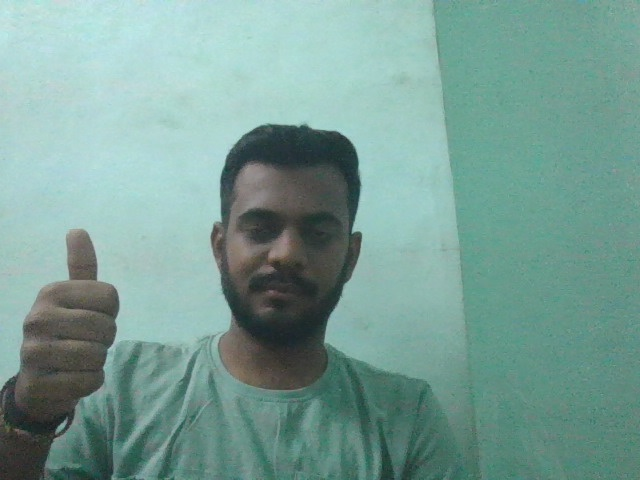yes: (13, 217, 124, 423)
